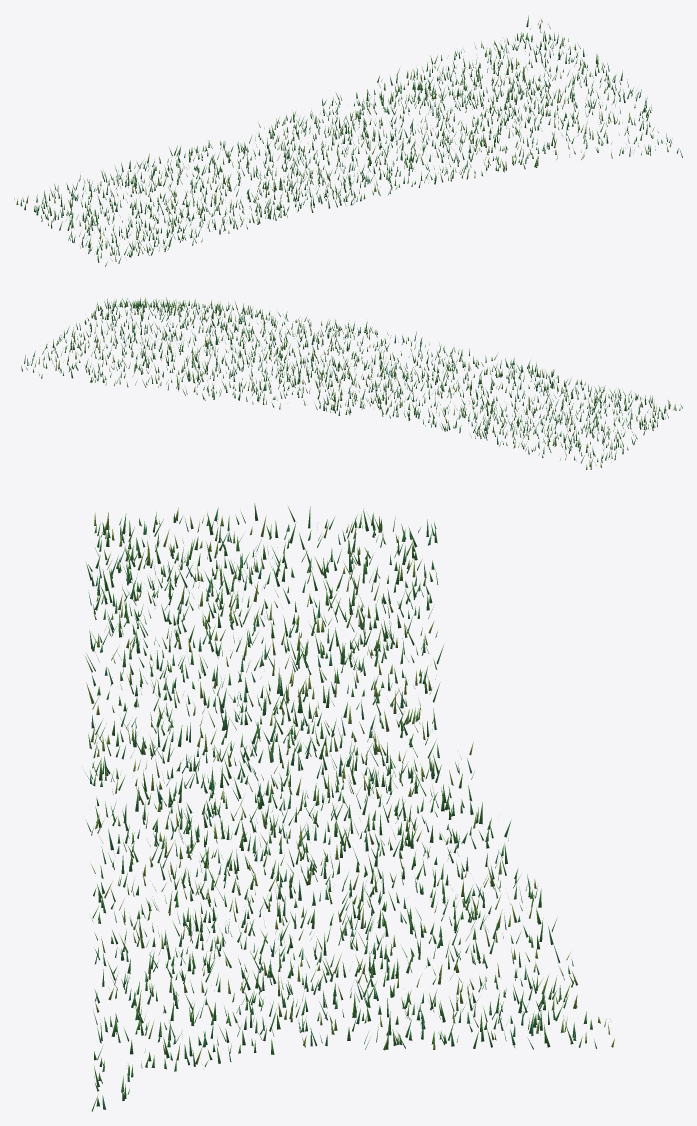
The picture shows the model from 3 angles, top to bottom: view 1: azimuth 30°, elevation 25°; view 2: azimuth 150°, elevation 25°; view 3: azimuth 270°, elevation 25°; orthographic projection. The views are drawn at different scales.
Visible parts, largest first — view 1: gc_56; view 2: gc_56; view 3: gc_56.
Part boxes in pixels (x1,y1,x2,y2): gc_56: [14, 15, 682, 266]; gc_56: [21, 297, 682, 469]; gc_56: [83, 503, 614, 1111].
Bounding box in the file's own units: 18.16 × 1.38 × 7.7.
1 material, 1 textured.
